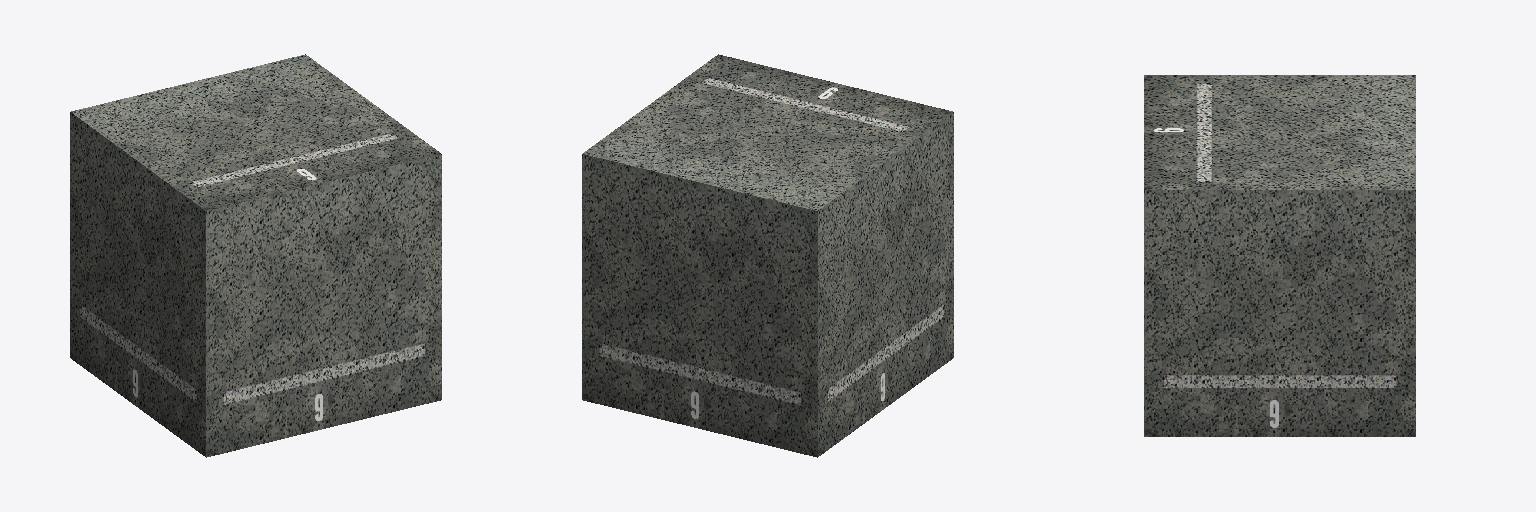
The picture shows the model from 3 angles: view 1: azimuth 30°, elevation 25°; view 2: azimuth 150°, elevation 25°; view 3: azimuth 270°, elevation 25°; orthographic projection.
Visible parts, largest first — view 1: cube1; view 2: cube1; view 3: cube1.
Part boxes in pixels (left/top/right/bottom): cube1: left=70, top=54, right=441, bottom=457; cube1: left=582, top=54, right=953, bottom=457; cube1: left=1144, top=75, right=1415, bottom=436.
Size of the model in its own units: 1 by 1 by 1.
1 materials, 1 textured.